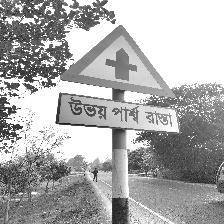Crossroad: (56, 25, 180, 134)
